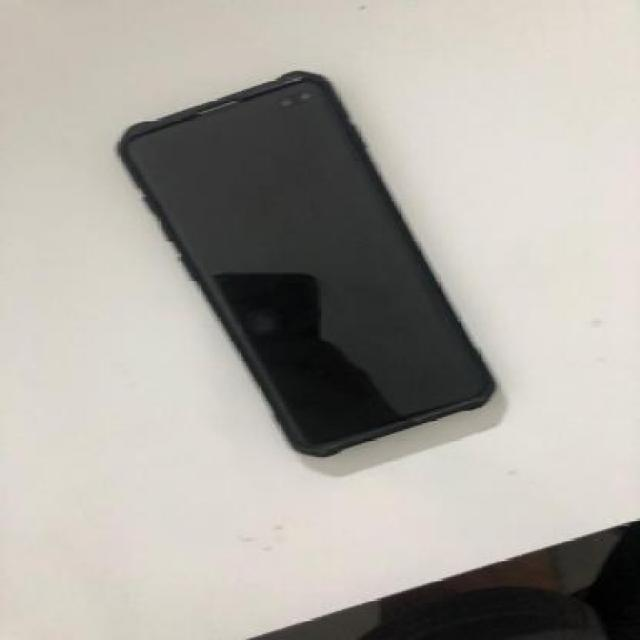phone: (115, 70, 499, 459)
